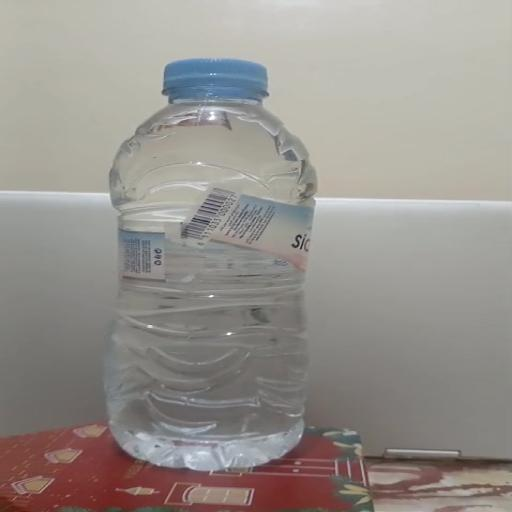bouteille non conformite: (139, 332, 300, 468), (181, 187, 313, 269), (164, 59, 266, 101), (222, 255, 275, 333)
